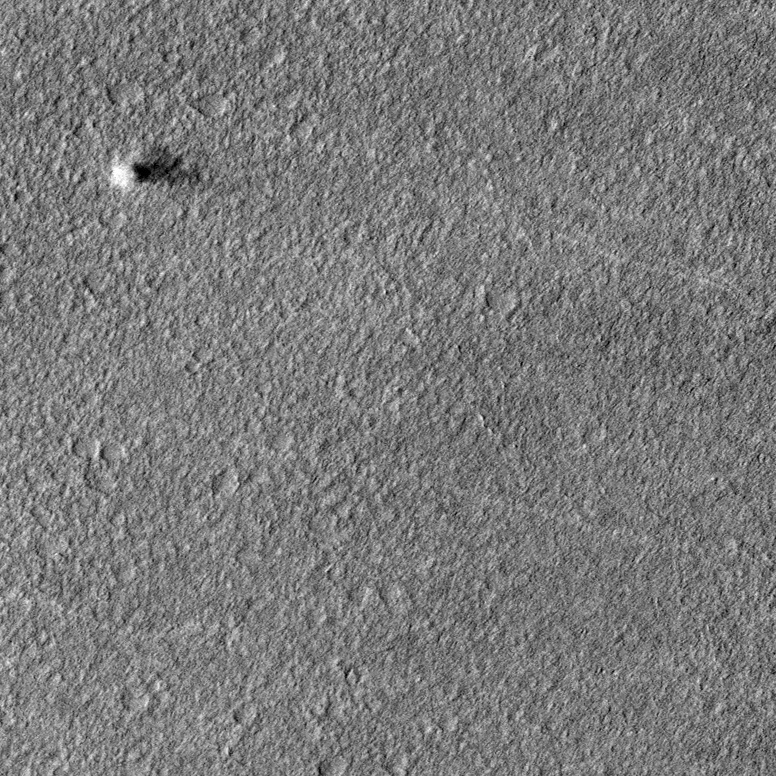dust_devil: (106, 145, 201, 198)
